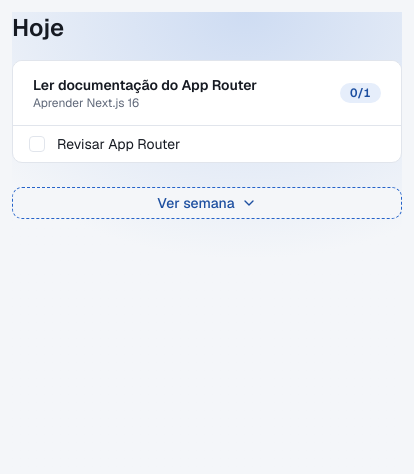
Test case: FluidDayWeek › collapses the week section again on a second click
Click the button "Ver semana": (207, 203) [12, 187, 402, 219]
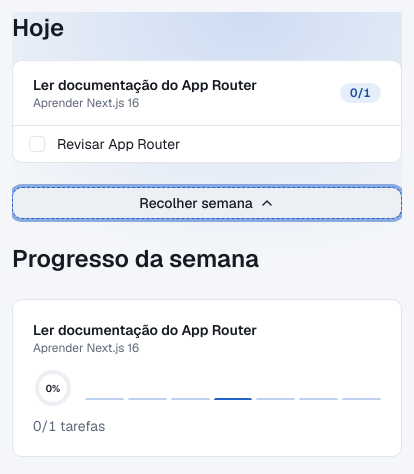
Click the button "Recolher semana": (207, 203) [12, 187, 402, 219]
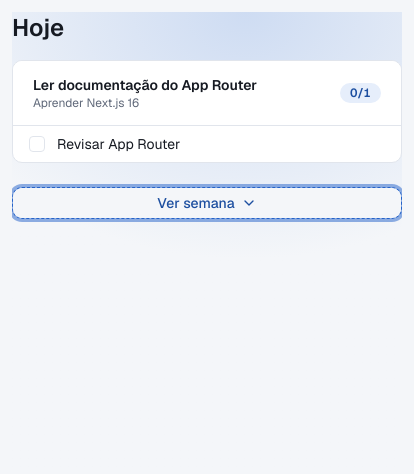
Expected: the button "Ver semana" is collapsed, [12, 187, 402, 219]
